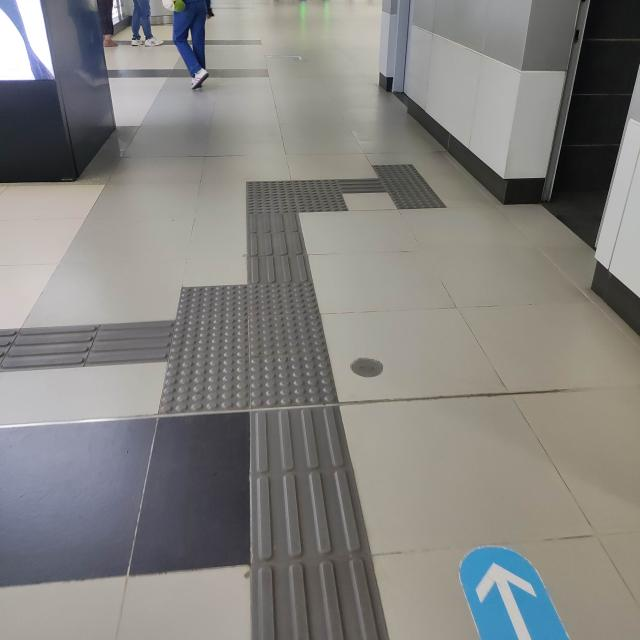kanan: (230, 150, 386, 238)
